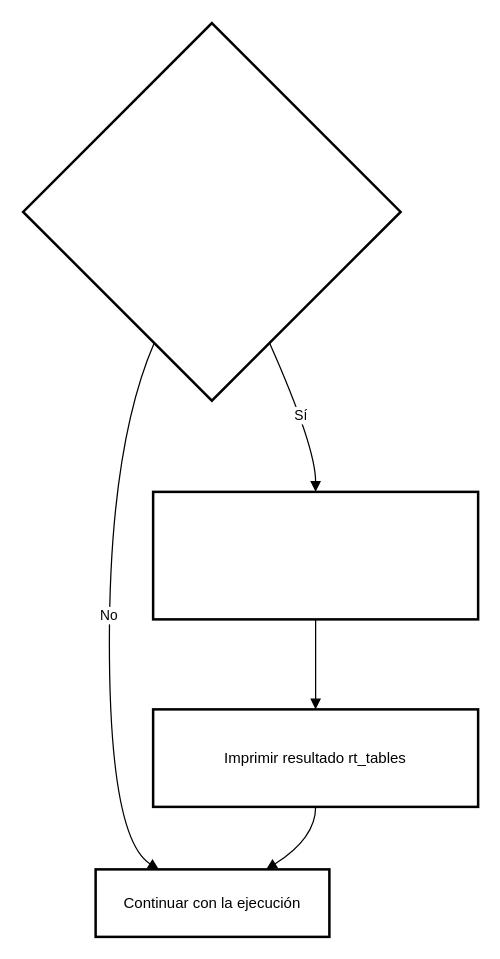
Some shapes in this 500 by 959 pixel diagram are drawn without their labels. Each missing label, with the centre of its shape:
"ssh_ru: Añadir entrada echo 'tid tunneltid' >> rt_tables" goes at (x=315, y=555).
"¿args.new_table O NOT table_entry_exists(tid)?" goes at (x=211, y=211).
